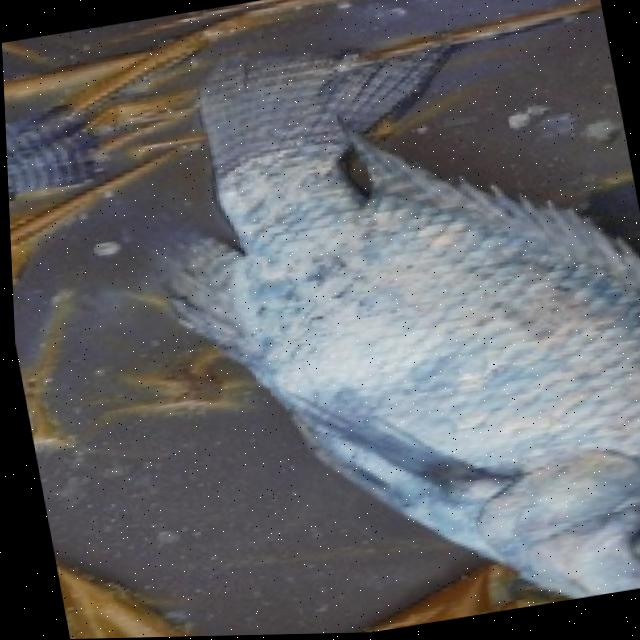Non-Fresh: (108, 6, 640, 638)
